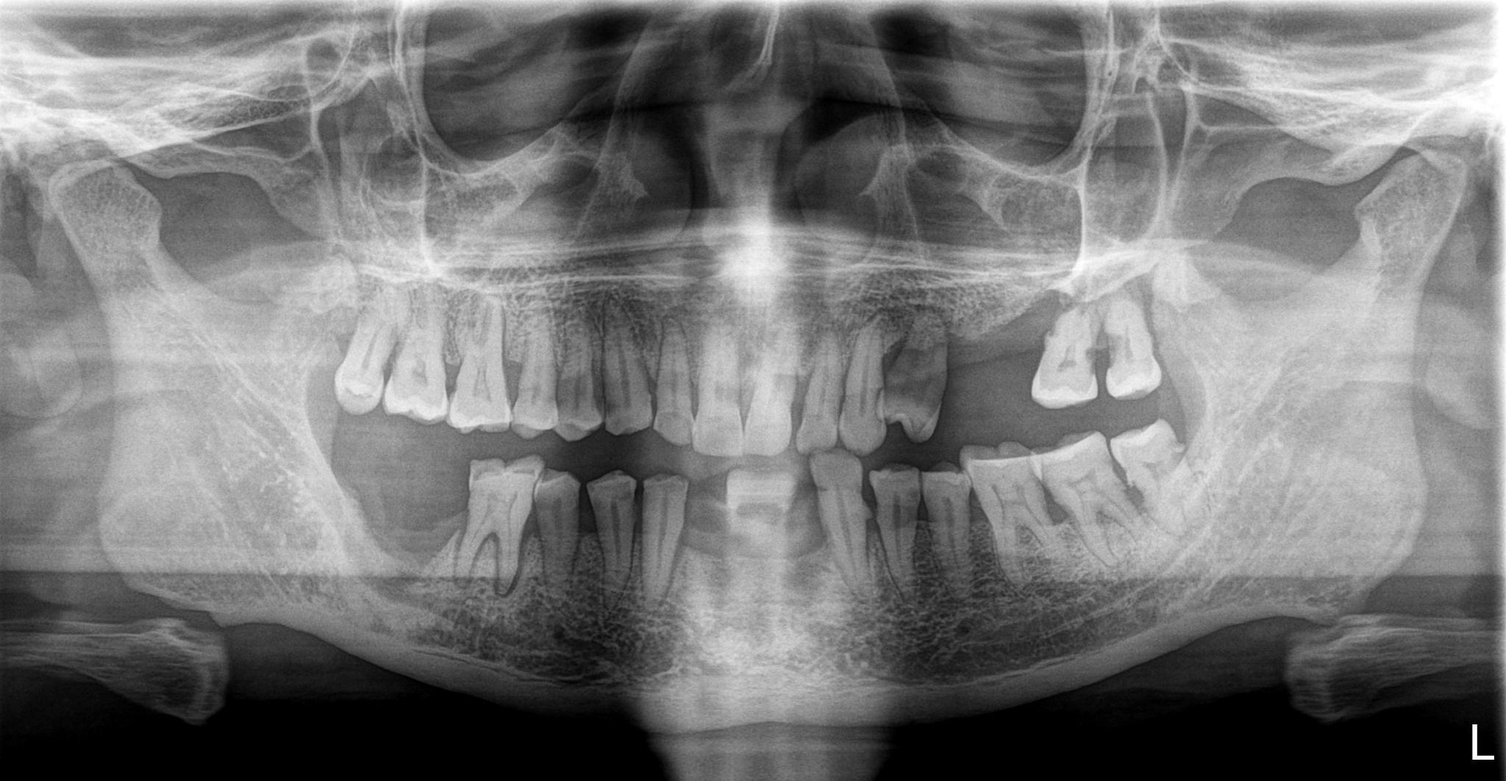Dental Caries: (886, 351, 948, 420), (1083, 336, 1130, 372)
Missing Tooth: (952, 314, 1036, 429), (331, 454, 385, 585), (384, 452, 420, 600), (423, 454, 461, 591)
Periapical Abnormality: (1044, 482, 1154, 543)
